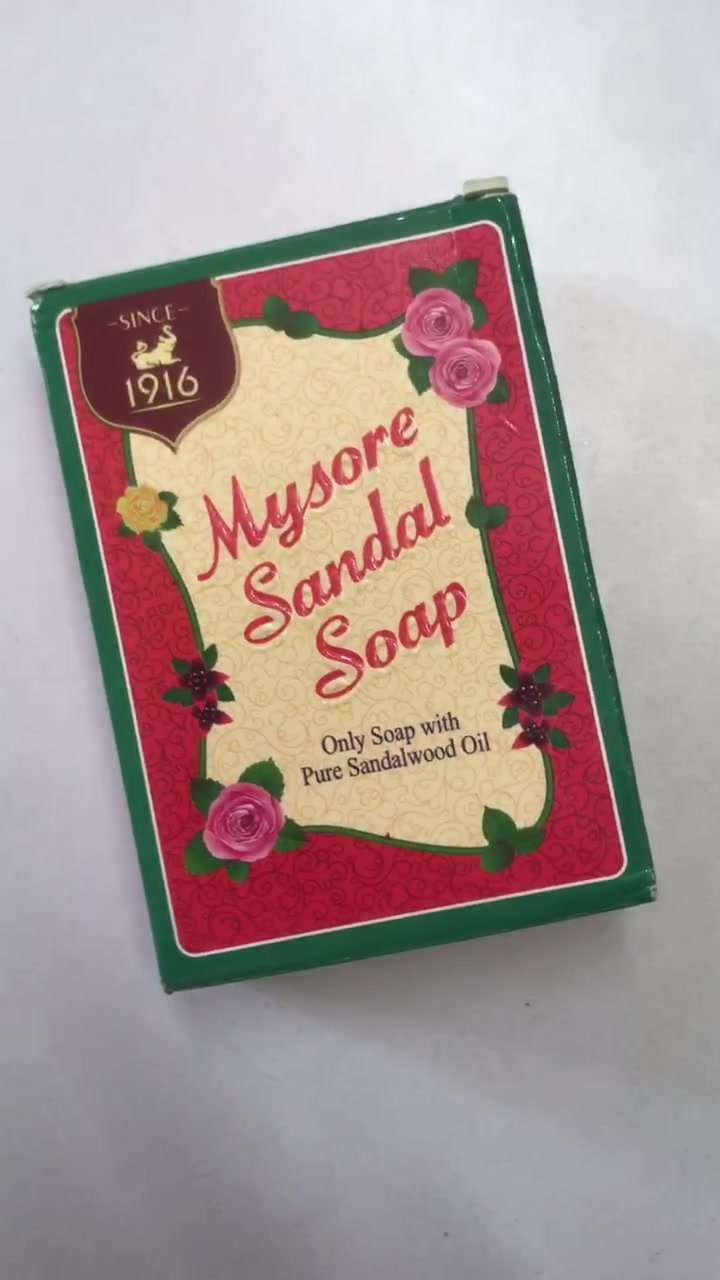mysore sandal soap: (34, 196, 656, 999)
